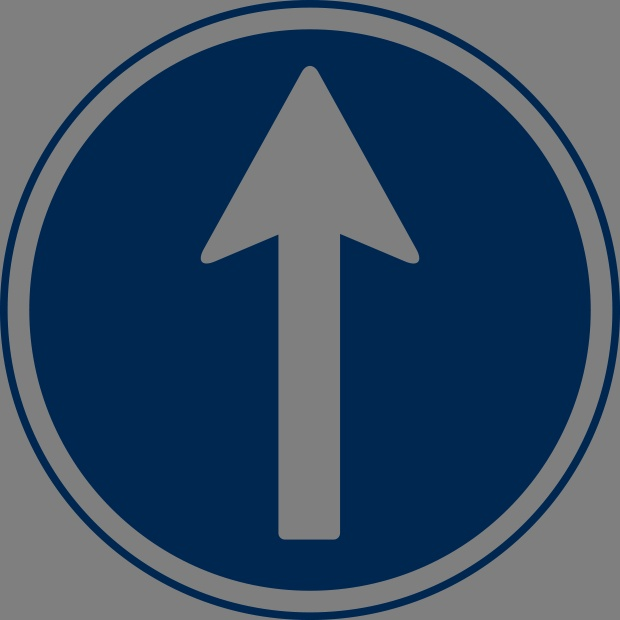Direction_sign: (7, 5, 615, 616)
